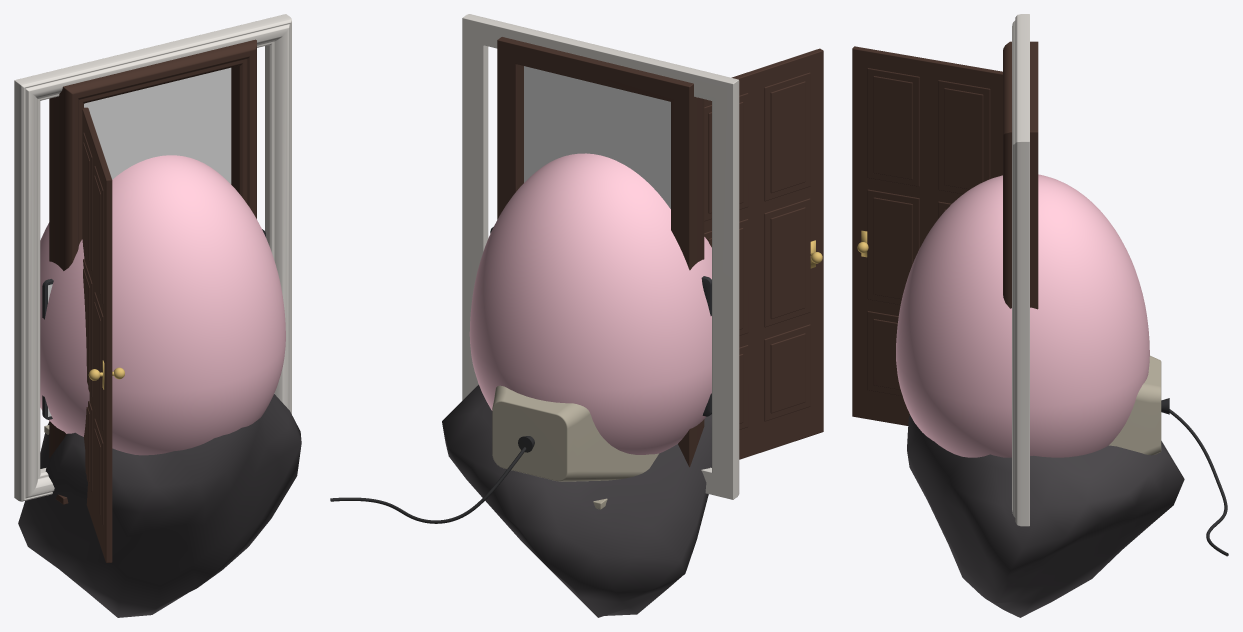
File: props.glb
3 renders of one model, left to right at view 1: azimuth 30°, elevation 25°; view 2: azimuth 150°, elevation 25°; view 3: azimuth 270°, elevation 25°, orthographic. The views are drawn at different scales.
Visible parts, largest first — view 1: Egg, Rock_Small, Frame, Door_Frame, Door_Leaf, Door_Light; view 2: Egg, Door_Leaf, Rock_Small, Frame, Door_Frame, Door_Light, CRT_Body, CRT_Cable; view 3: Egg, Door_Leaf, Rock_Small, Frame, Door_Frame, CRT_Body, CRT_Cable.
Boxes of the visible parts, x1,y1,x2,y2 form: Egg: [40, 155, 285, 455]; Rock_Small: [18, 394, 301, 617]; Frame: [14, 14, 291, 501]; Door_Frame: [49, 39, 256, 504]; Door_Leaf: [82, 107, 112, 562]; Door_Light: [84, 67, 231, 184]; Egg: [469, 153, 711, 454]; Door_Leaf: [704, 48, 823, 459]; Rock_Small: [442, 385, 711, 617]; Frame: [462, 14, 739, 499]; Door_Frame: [497, 37, 704, 467]; Door_Light: [524, 66, 670, 208]; CRT_Body: [492, 385, 658, 509]; CRT_Cable: [330, 447, 526, 523]; Egg: [896, 174, 1149, 457]; Door_Leaf: [852, 46, 1002, 425]; Rock_Small: [907, 415, 1184, 617]; Frame: [1012, 14, 1029, 526]; Door_Frame: [1003, 41, 1038, 309]; CRT_Body: [1109, 355, 1161, 455]; CRT_Cable: [1169, 409, 1228, 556].
Size of the model in its own units: 2.43 by 4.24 by 2.67.
